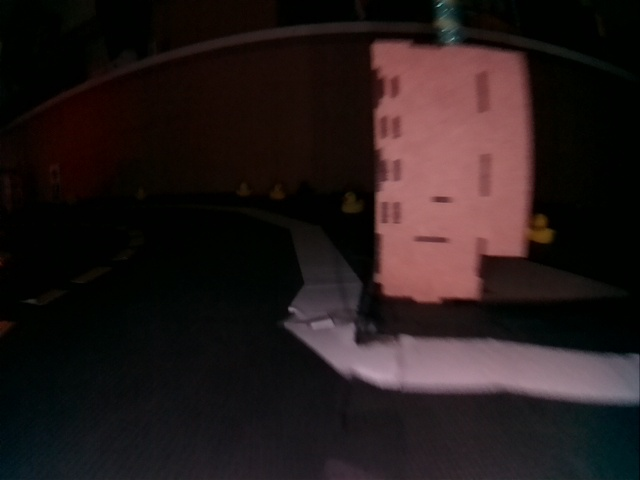Duckie: (529, 214, 552, 243), (343, 192, 358, 212), (274, 186, 284, 196), (237, 183, 247, 191)
